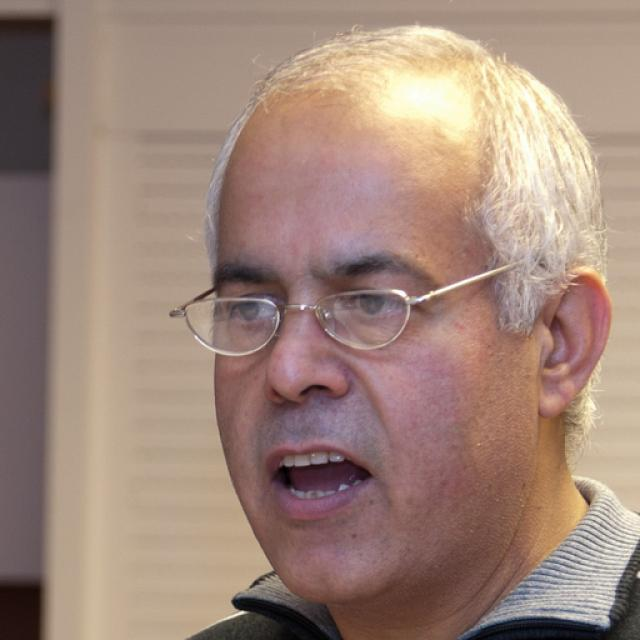surprise: (211, 94, 539, 604)
